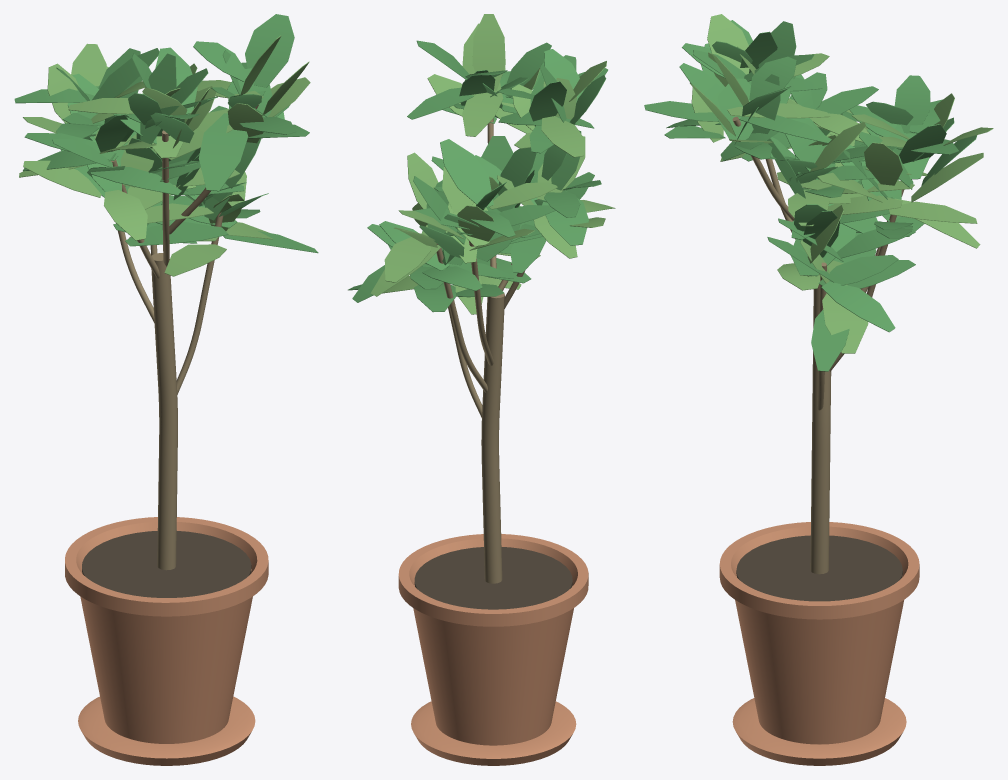
File: corr_ficus_a.fbx
3 views of the same model, side by side, from view 1: azimuth 30°, elevation 25°; view 2: azimuth 150°, elevation 25°; view 3: azimuth 270°, elevation 25° (orthographic). The views are drawn at different scales.
Parts seen in each view (by area): view 1: EQ_corr_ficus_a_M_Terracotta, EQ_corr_ficus_a_M_Leaf, EQ_corr_ficus_a_M_LeafLight, EQ_corr_ficus_a_M_Stem, EQ_corr_ficus_a_M_Soil; view 2: EQ_corr_ficus_a_M_Terracotta, EQ_corr_ficus_a_M_Leaf, EQ_corr_ficus_a_M_LeafLight, EQ_corr_ficus_a_M_Stem, EQ_corr_ficus_a_M_Soil; view 3: EQ_corr_ficus_a_M_Leaf, EQ_corr_ficus_a_M_Terracotta, EQ_corr_ficus_a_M_LeafLight, EQ_corr_ficus_a_M_Soil, EQ_corr_ficus_a_M_Stem.
Boxes of the visible parts, left/top/right/bottom form: EQ_corr_ficus_a_M_Terracotta: left=65, top=517, right=268, bottom=765; EQ_corr_ficus_a_M_Leaf: left=14, top=14, right=318, bottom=253; EQ_corr_ficus_a_M_LeafLight: left=19, top=35, right=310, bottom=276; EQ_corr_ficus_a_M_Stem: left=111, top=104, right=258, bottom=570; EQ_corr_ficus_a_M_Soil: left=82, top=531, right=251, bottom=597; EQ_corr_ficus_a_M_Terracotta: left=398, top=534, right=588, bottom=765; EQ_corr_ficus_a_M_Leaf: left=348, top=40, right=607, bottom=312; EQ_corr_ficus_a_M_LeafLight: left=370, top=14, right=615, bottom=314; EQ_corr_ficus_a_M_Stem: left=436, top=118, right=525, bottom=583; EQ_corr_ficus_a_M_Soil: left=414, top=547, right=572, bottom=609; EQ_corr_ficus_a_M_Leaf: left=644, top=20, right=977, bottom=371; EQ_corr_ficus_a_M_Terracotta: left=719, top=522, right=919, bottom=765; EQ_corr_ficus_a_M_LeafLight: left=690, top=14, right=993, bottom=353; EQ_corr_ficus_a_M_Soil: left=736, top=535, right=902, bottom=601; EQ_corr_ficus_a_M_Stem: left=732, top=116, right=903, bottom=574.
Bounding box in the file's own units: 0.9001 × 2.18 × 0.9819.
